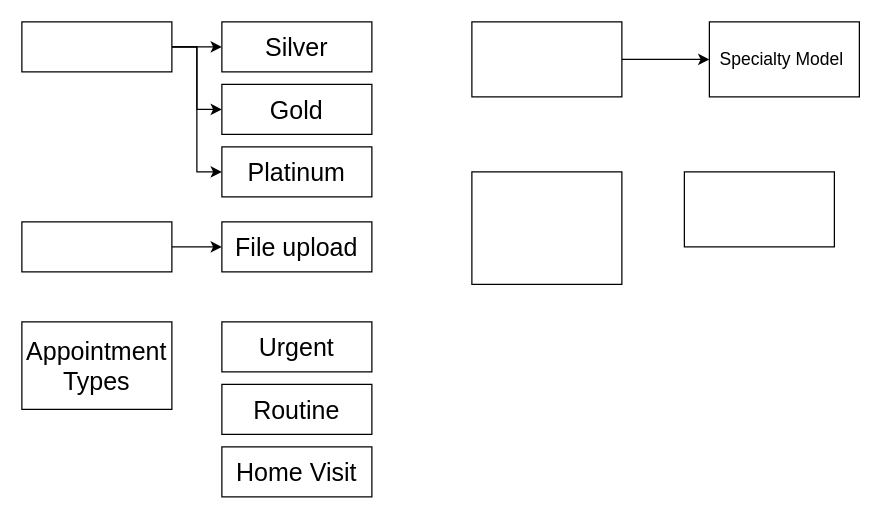
Image size: 881x519. Some labels were removed from this diagram. Here are the shapes that lost their labels. From the top down, the centre of each, then its label:
At (96,46): "Subscription".
At (546,59): "Doctor Model".
At (96,246): "Documents".
At (546,227): "Create A Hook for ID verification Just for playing".
